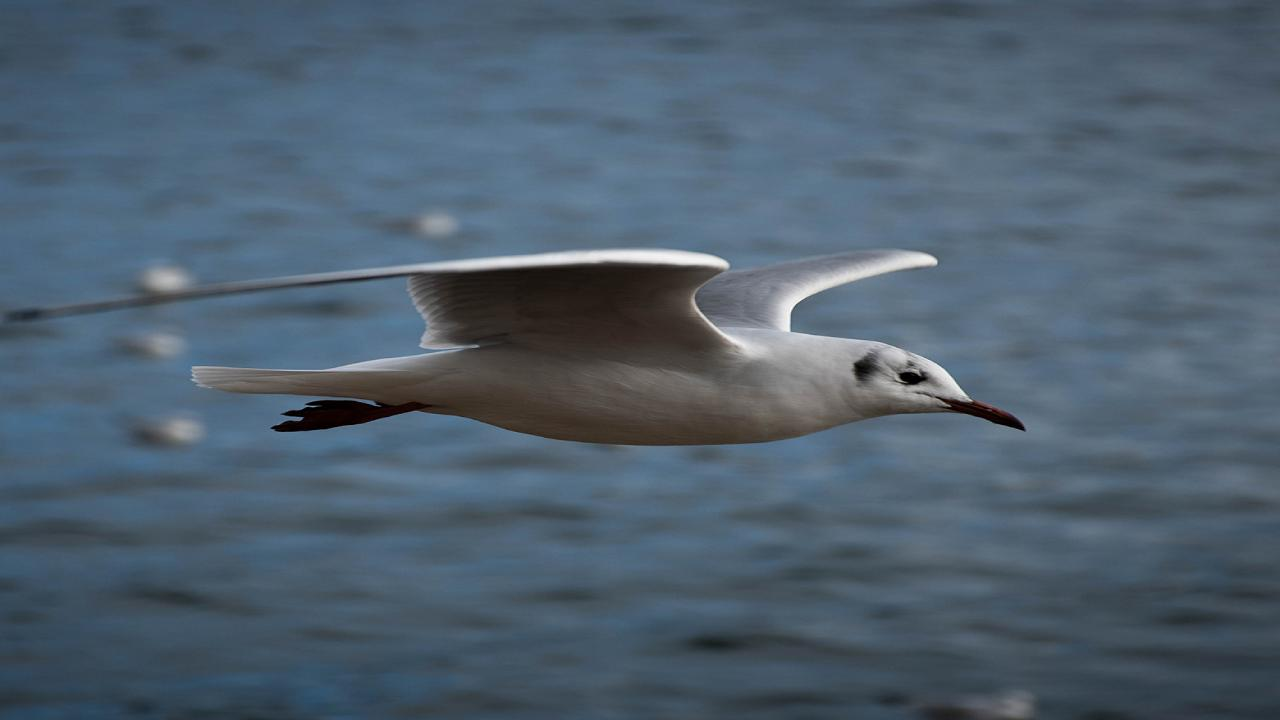Bird: (0, 228, 1045, 454)
